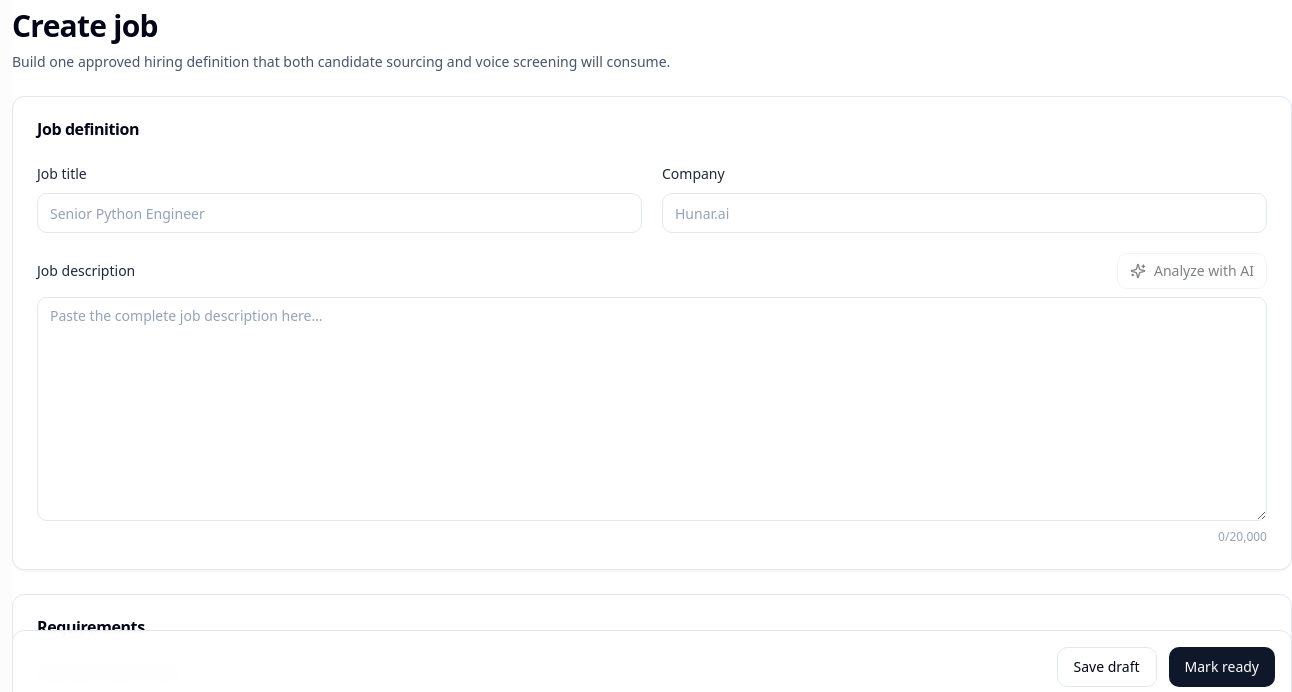
Test: JobEditor › keeps manual editing available when AI analysis fails
Type "Build reliable Python and FastAPI services for an AI hiring product." into the text box labelled "Job description".
click(652, 409); type("Build reliable Python and FastAPI services for an AI hiring product.")  # box [37,297,1267,521]
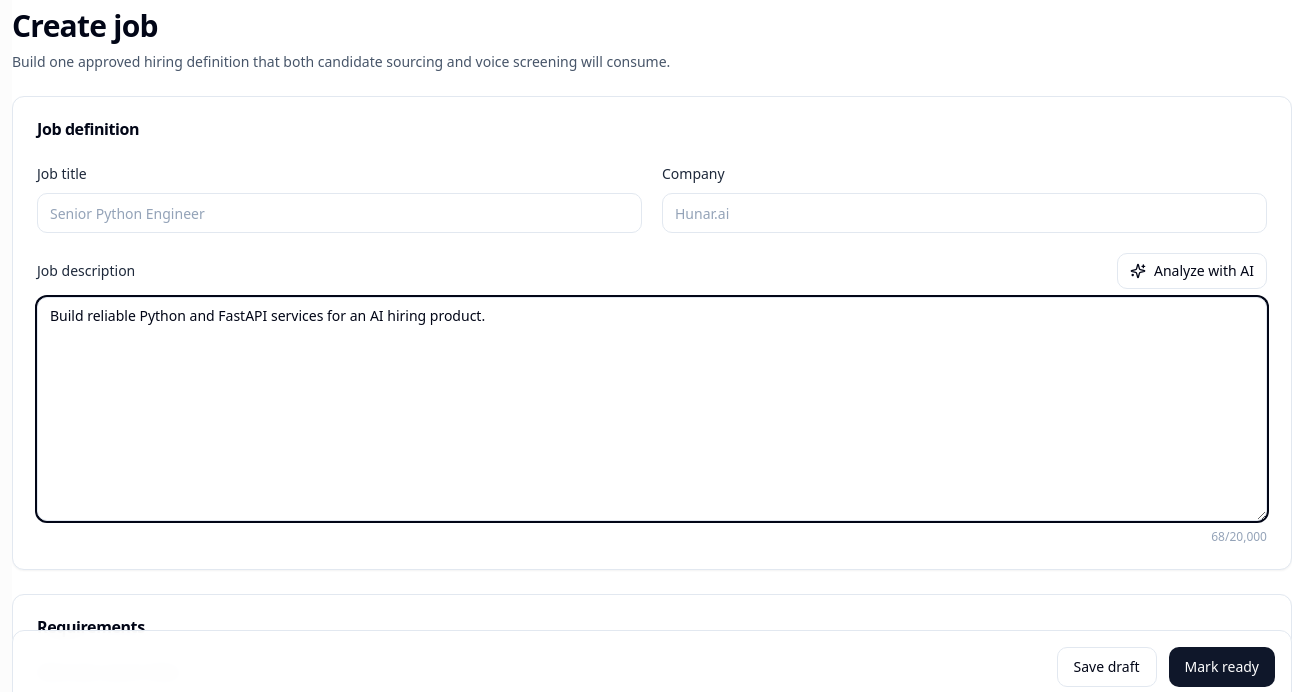
Click the button "Analyze with AI".
click(1192, 271)  # box [1117,253,1267,289]
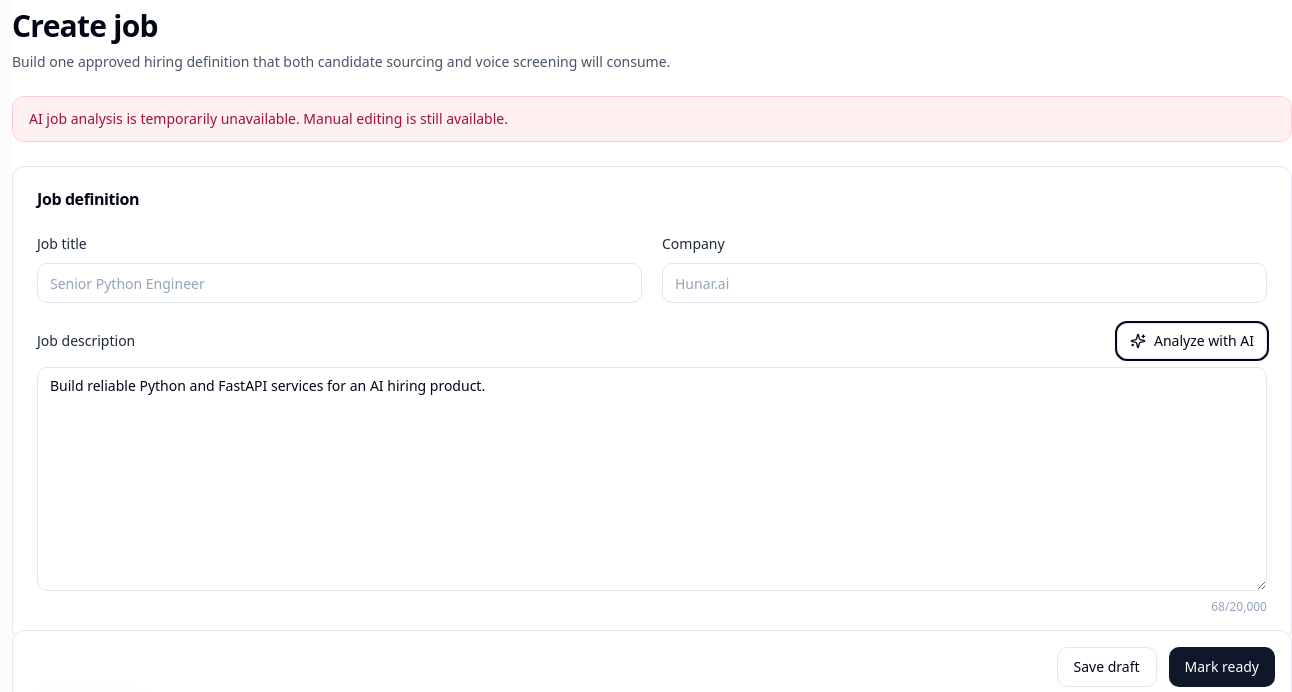
Check: the field labelled "Job title" is enabled, box [37,263,642,303]
Check: the message shows "Manual editing is still available", box [29,109,508,128]
